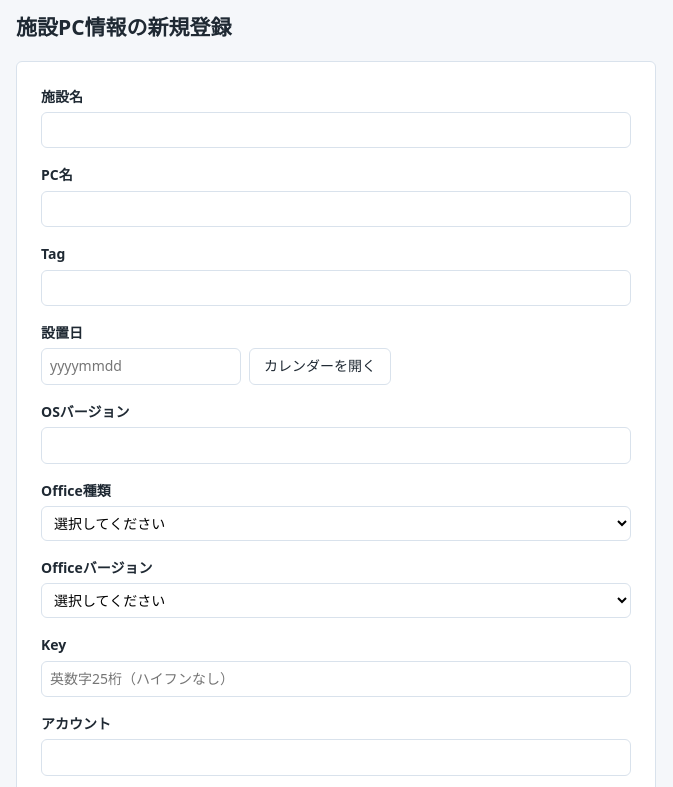
Test: FacilityPcFormPage（新規登録） › カレンダーで選んだ日付を yyyymmdd で入力欄に反映する
Type "2026-09-26" into the date field named "設置日をカレンダーから選択" at x=216, y=366, box [41,348,391,385]
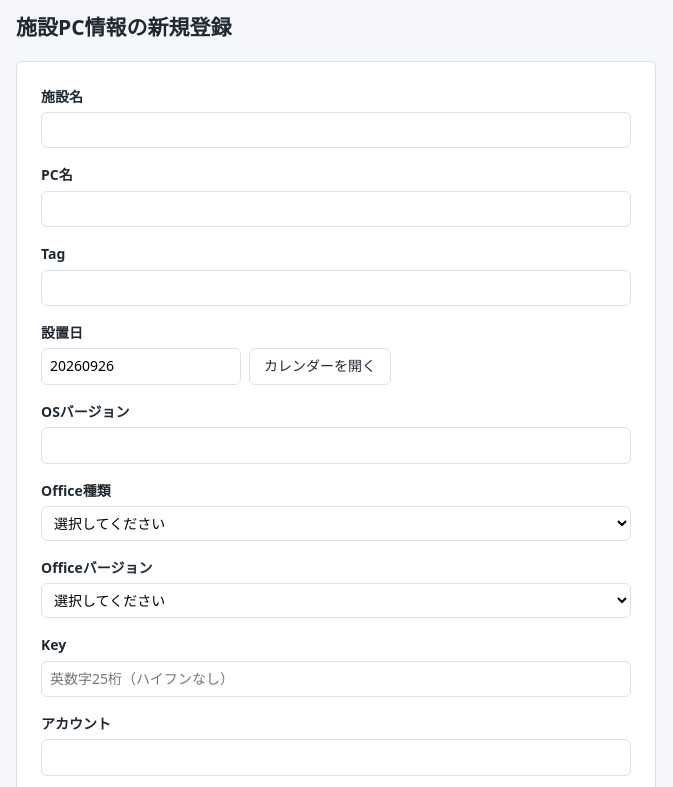
Expected: the field labelled "設置日" holds "20260926", [41,348,241,385]
